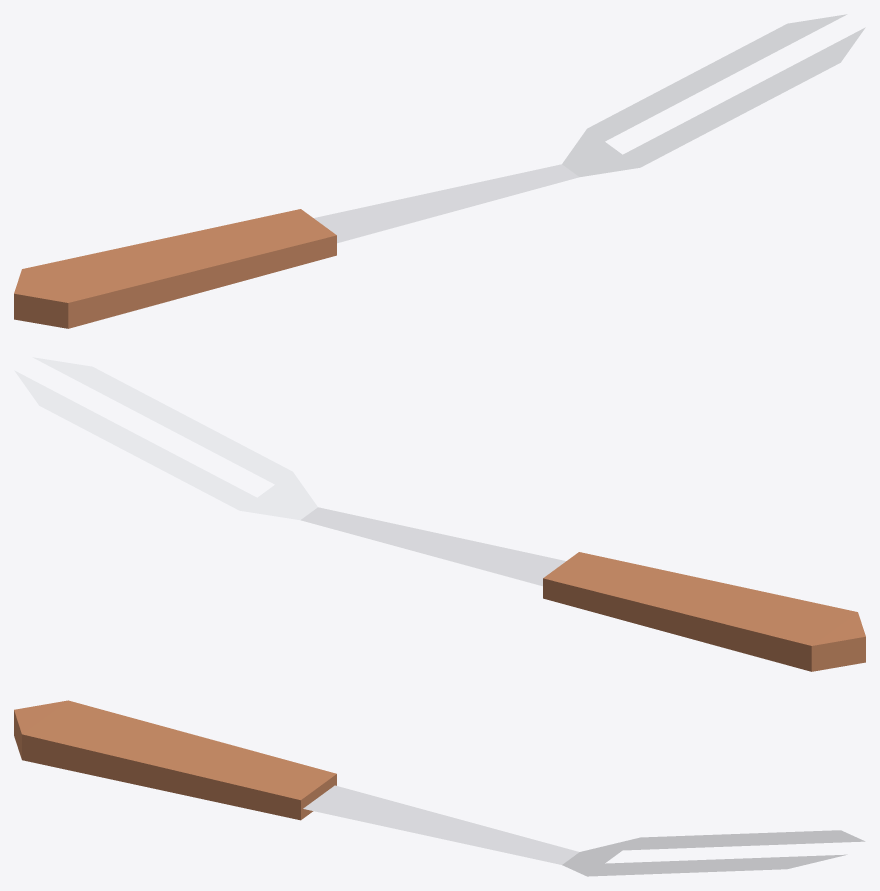
The model's file is cookingFork.obj.
The picture shows the model from 3 angles, top to bottom: view 1: azimuth 30°, elevation 25°; view 2: azimuth 150°, elevation 25°; view 3: azimuth 330°, elevation 25°; orthographic projection.
Visible parts, largest first — view 1: cookingFork; view 2: cookingFork; view 3: cookingFork.
Part boxes in pixels (x1,y1,x2,y2): cookingFork: [14, 14, 865, 328]; cookingFork: [14, 357, 865, 671]; cookingFork: [14, 700, 865, 876].
Size of the model in its own units: 0.6827 by 0.0721 by 0.0749.
